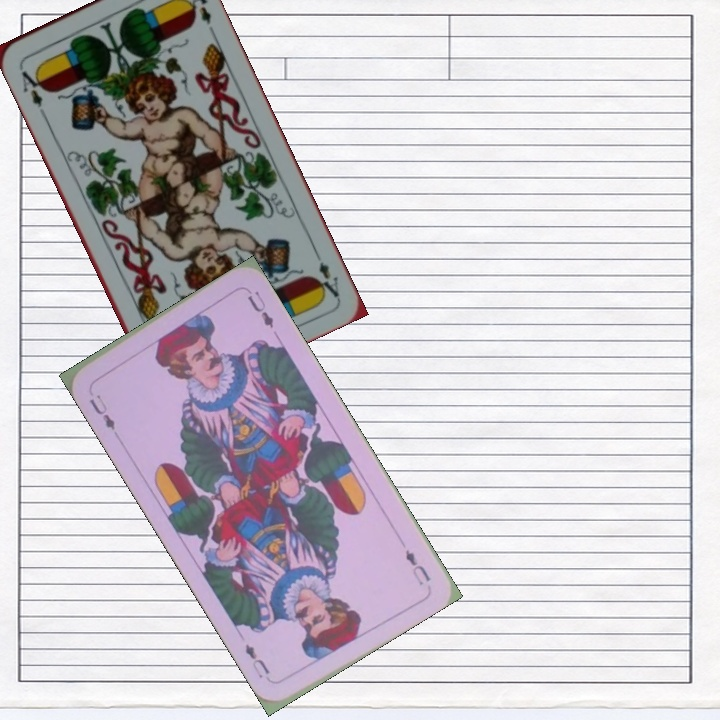EA: (309, 245, 342, 301), (15, 62, 48, 111)
EU: (400, 545, 433, 589), (85, 390, 118, 433)
